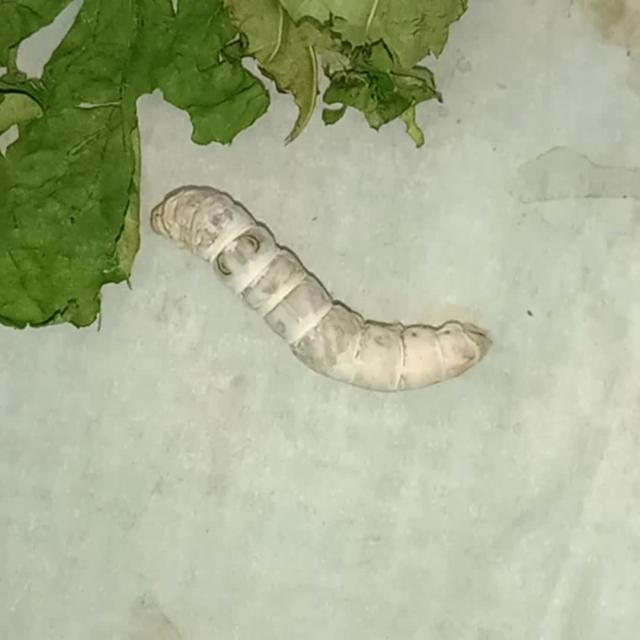Grasserie: (142, 168, 494, 402)
